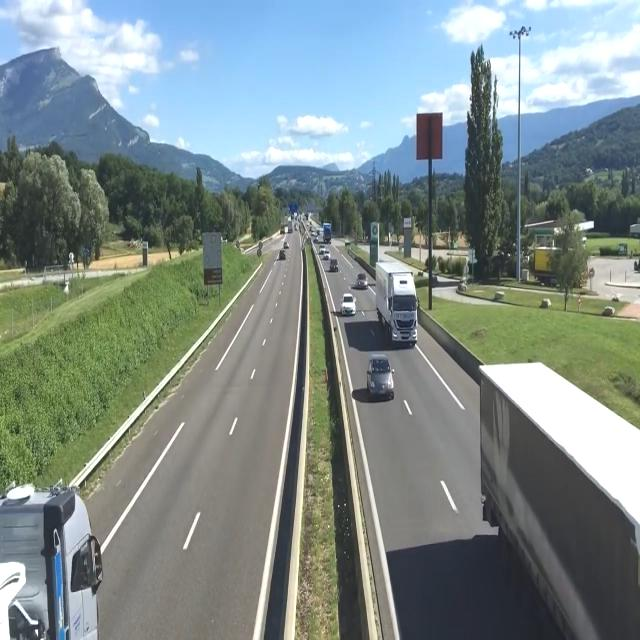Car: (363, 351, 396, 398), (341, 290, 359, 318), (356, 272, 370, 291), (274, 248, 288, 264), (328, 254, 340, 272), (279, 238, 293, 250), (317, 241, 326, 255), (322, 246, 330, 261)
Truck: (477, 360, 640, 640), (0, 459, 129, 638), (372, 257, 422, 348)
